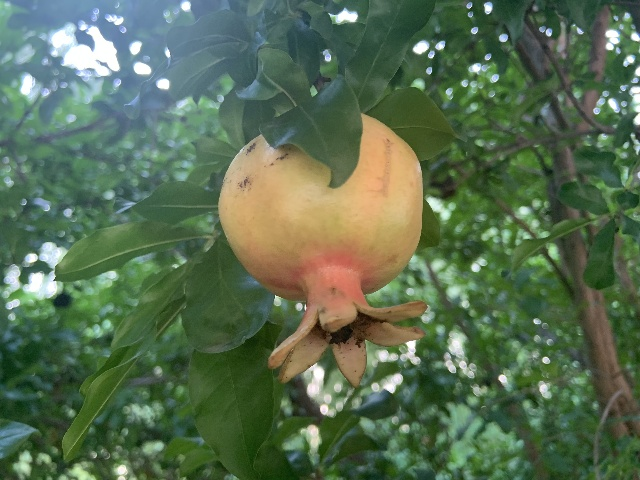mid-growth: (218, 113, 429, 393)
